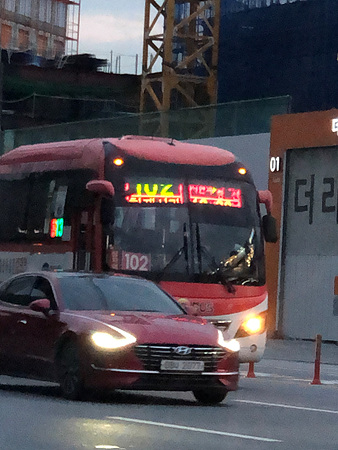bnum: (122, 252, 149, 271)
